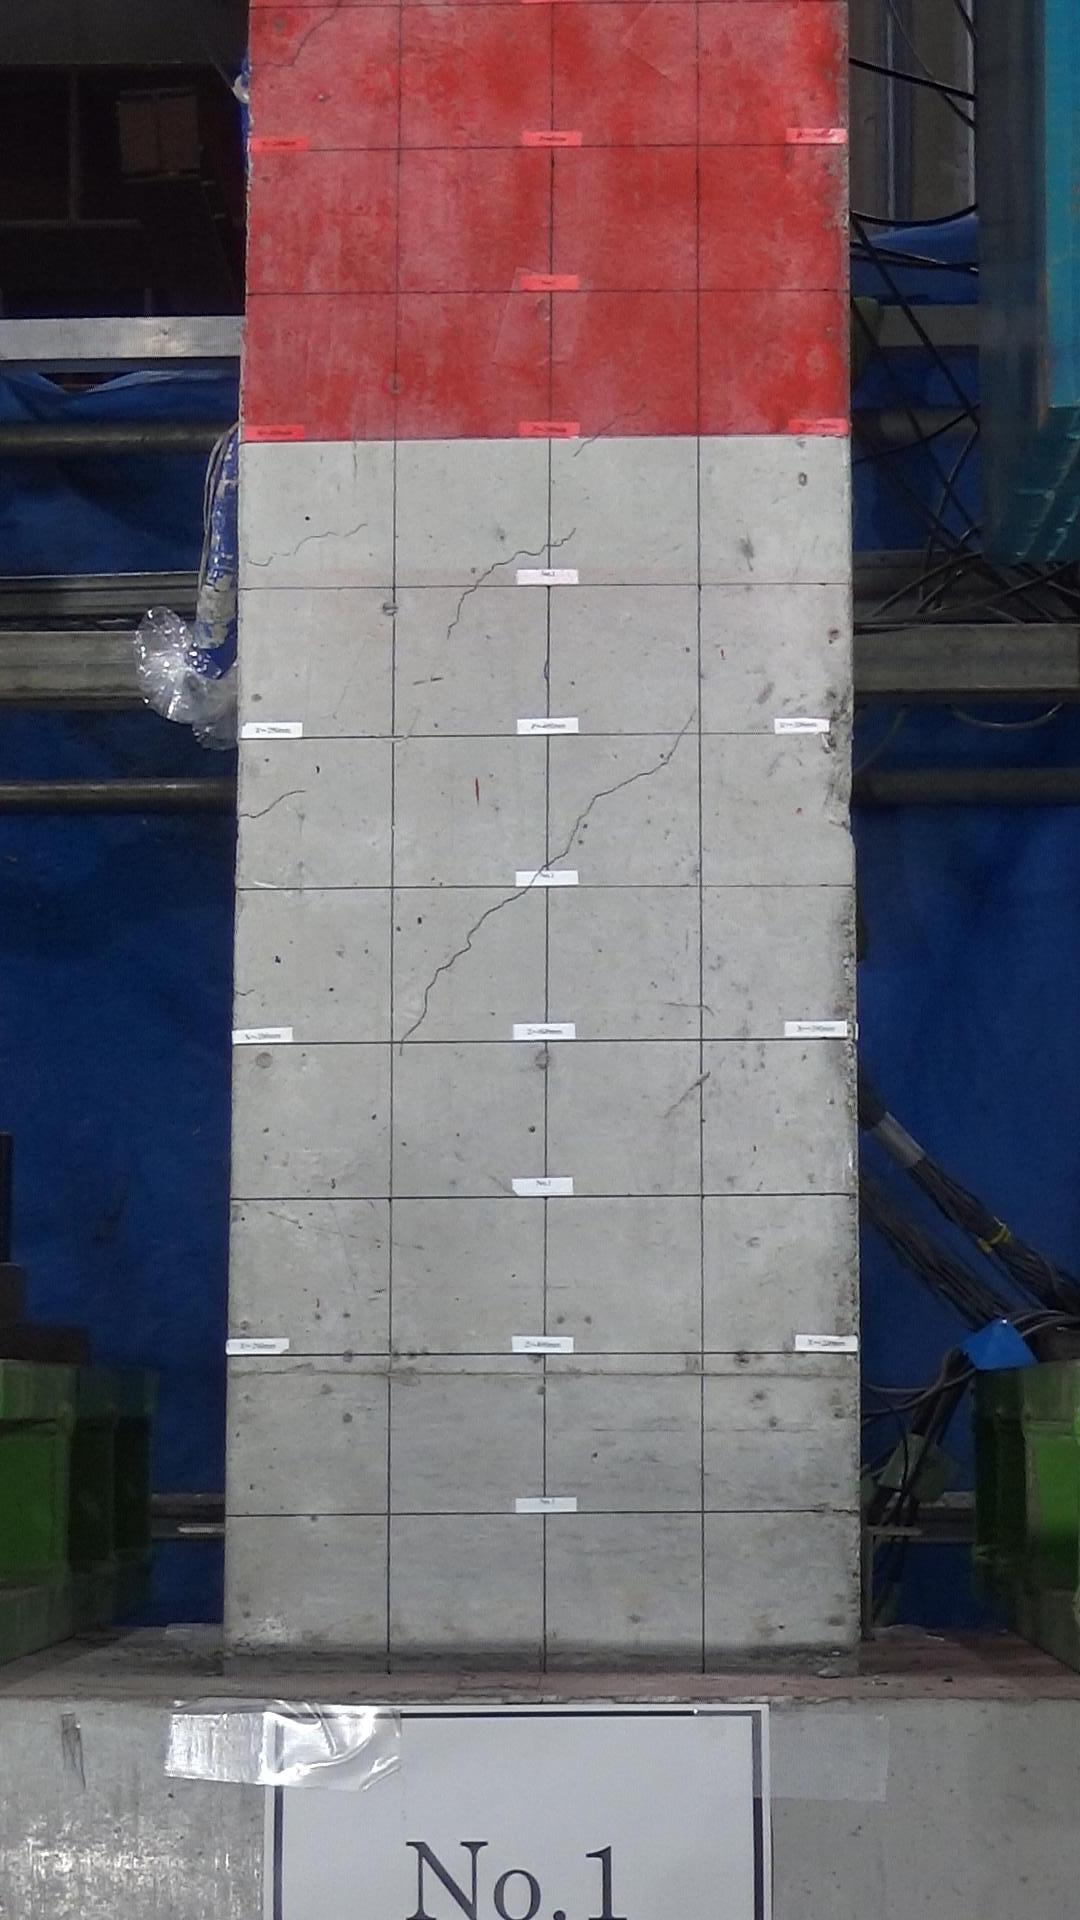Flexure Crack: (270, 541, 307, 560), (297, 529, 343, 543), (334, 524, 369, 539), (265, 787, 310, 798), (240, 555, 278, 567), (237, 810, 265, 822)
Shear Crack: (514, 847, 570, 891), (583, 777, 630, 810), (491, 549, 543, 572), (541, 526, 578, 556), (483, 891, 524, 916), (626, 764, 671, 785), (665, 723, 690, 760), (435, 949, 473, 973), (462, 568, 497, 593), (446, 595, 467, 637), (463, 915, 487, 949), (566, 812, 585, 851), (411, 997, 429, 1030), (423, 965, 439, 1000), (400, 1025, 411, 1054)
